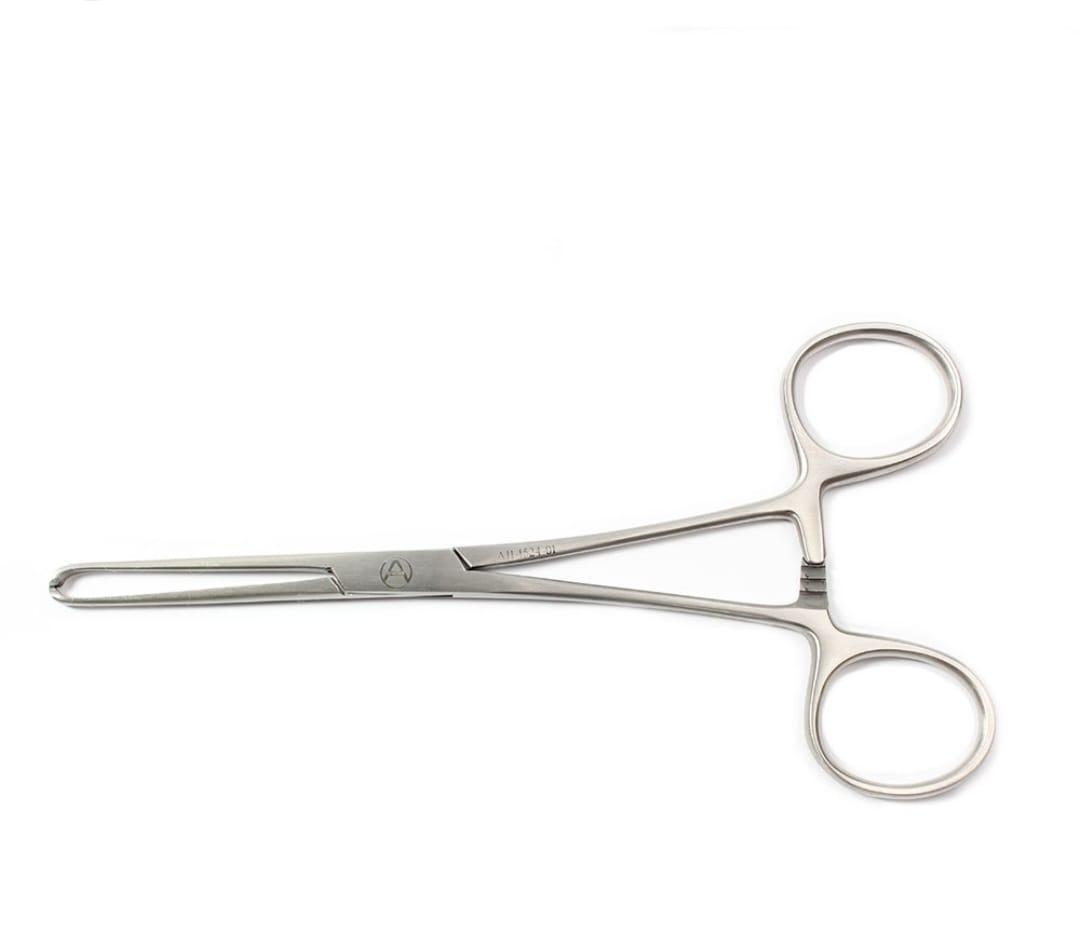Allis Forceps: (44, 311, 1007, 811)
